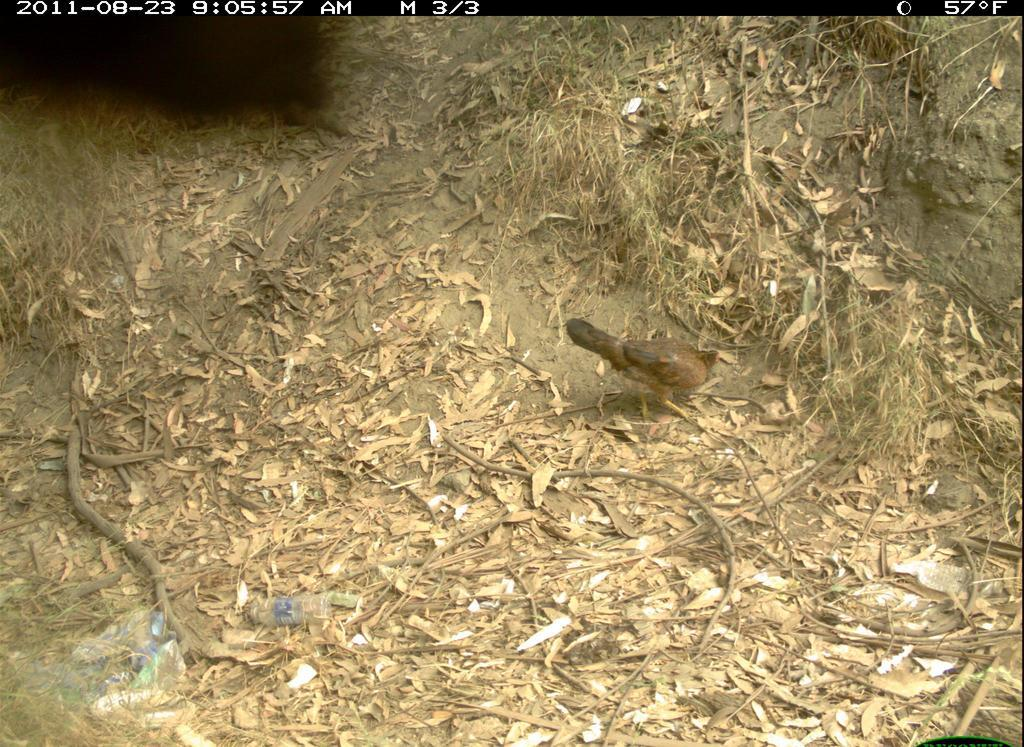bird: (523, 292, 786, 415)
